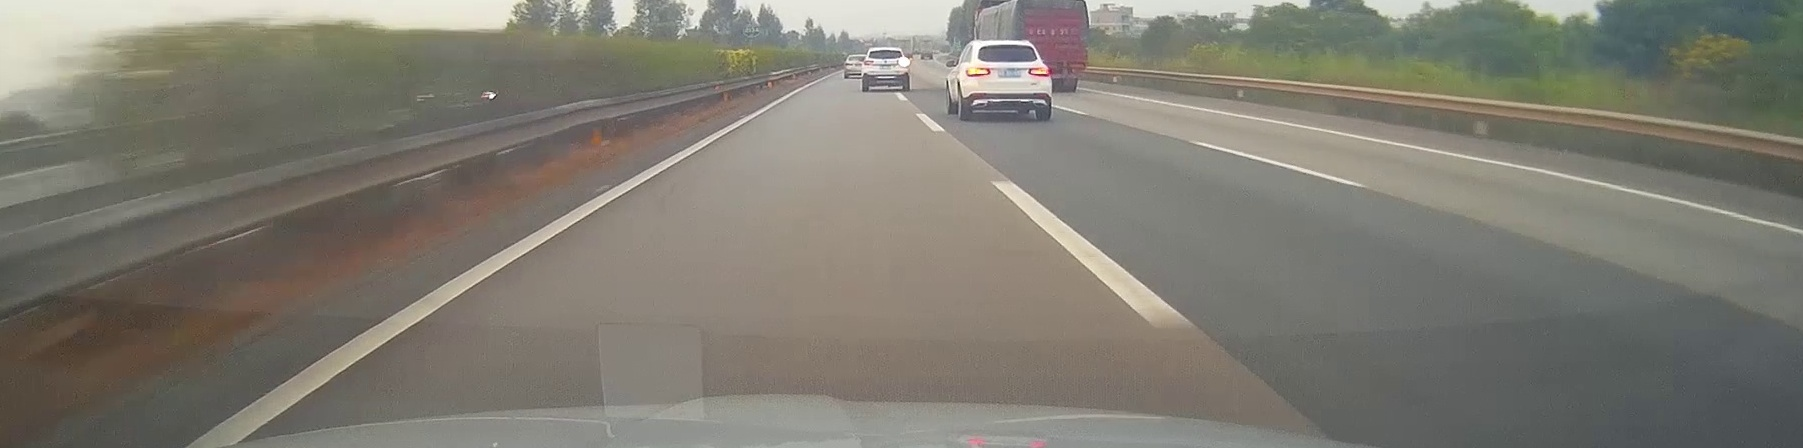L_light: (965, 67, 991, 77), (864, 61, 874, 65)
R_light: (1028, 67, 1050, 76), (897, 60, 906, 65)
T_light: (1003, 44, 1014, 47)
day-no: (962, 40, 1052, 119)
day-right: (862, 47, 910, 91)
